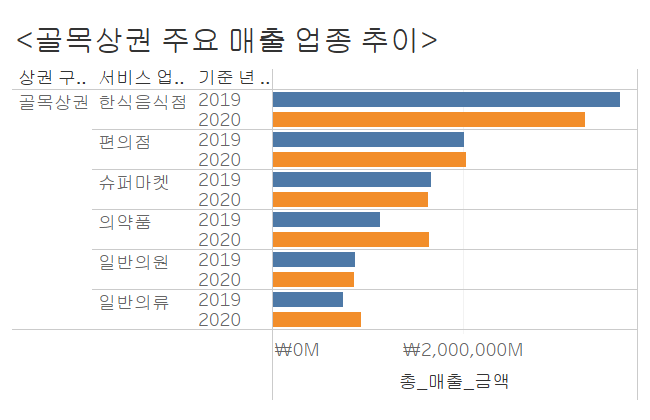

The dashboard page shown, as its layout file describes it:
{"tool":"tableau","page":{"name":"대시보드 3","canvas":[650,340],"ordinal":2},"visuals":[{"type":"worksheet","title":"2019-2020","mark":"Automatic","rows":["상권_구분_코드","상권_구분_코드_명","기준_년_코드"],"cols":["Calculation_1875467832722706446"],"box":[8,8,634,324]}]}

Visuals, with their boxes on the page's 650x340 design canvas (x1, y1, x2, y2). These are canvas units, not pixel positions in the 650x420 screenshot, which may show the page scaled, cropped or inside an application window:
"2019-2020" worksheet: box=[8, 8, 642, 332]
